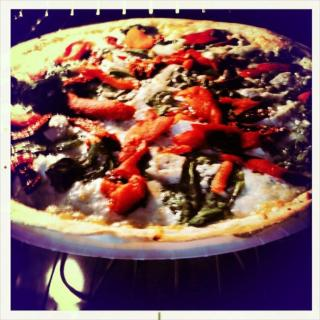Pizza: (10, 19, 315, 240)
